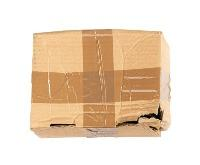damaged package: (111, 104, 165, 132)
undamaged: (25, 27, 175, 143)
